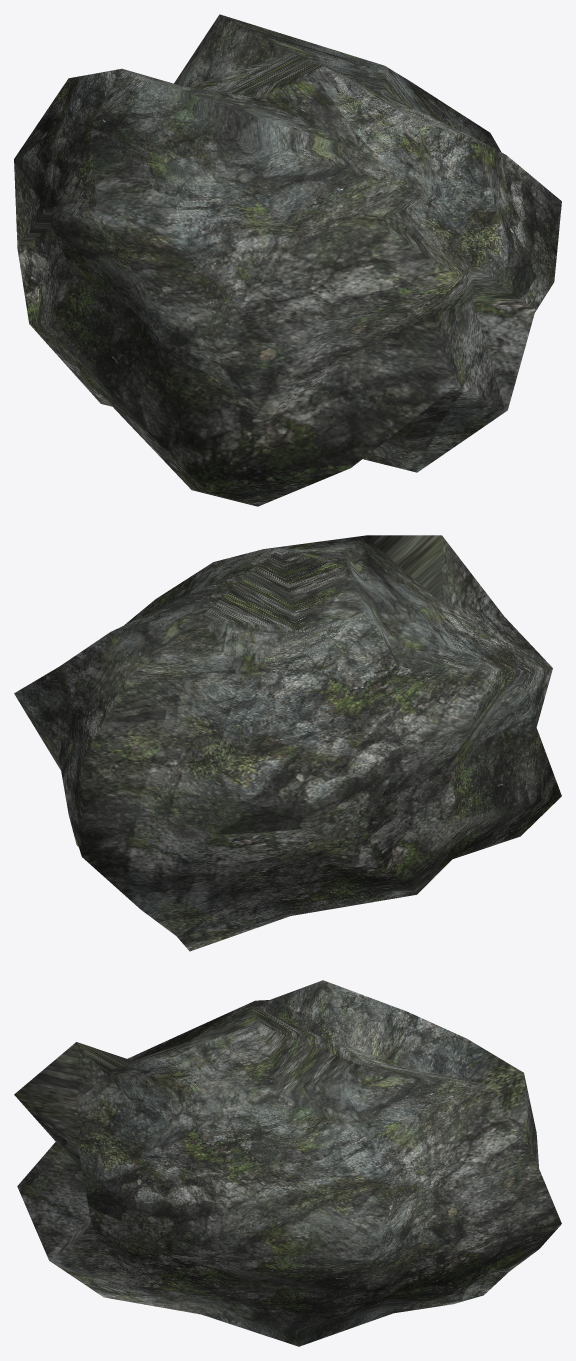
Rendered from Rock_3.fbx.
The picture shows the model from 3 angles, top to bottom: view 1: azimuth 30°, elevation 25°; view 2: azimuth 150°, elevation 25°; view 3: azimuth 270°, elevation 25°; orthographic projection. The views are drawn at different scales.
Visible parts, largest first — view 1: Rock_3; view 2: Rock_3; view 3: Rock_3.
Boxes of the visible parts, left/top/right/bottom form: Rock_3: left=14, top=14, right=561, bottom=506; Rock_3: left=14, top=535, right=561, bottom=951; Rock_3: left=14, top=980, right=561, bottom=1346.
Size of the model in its own units: 134 by 93.93 by 163.
